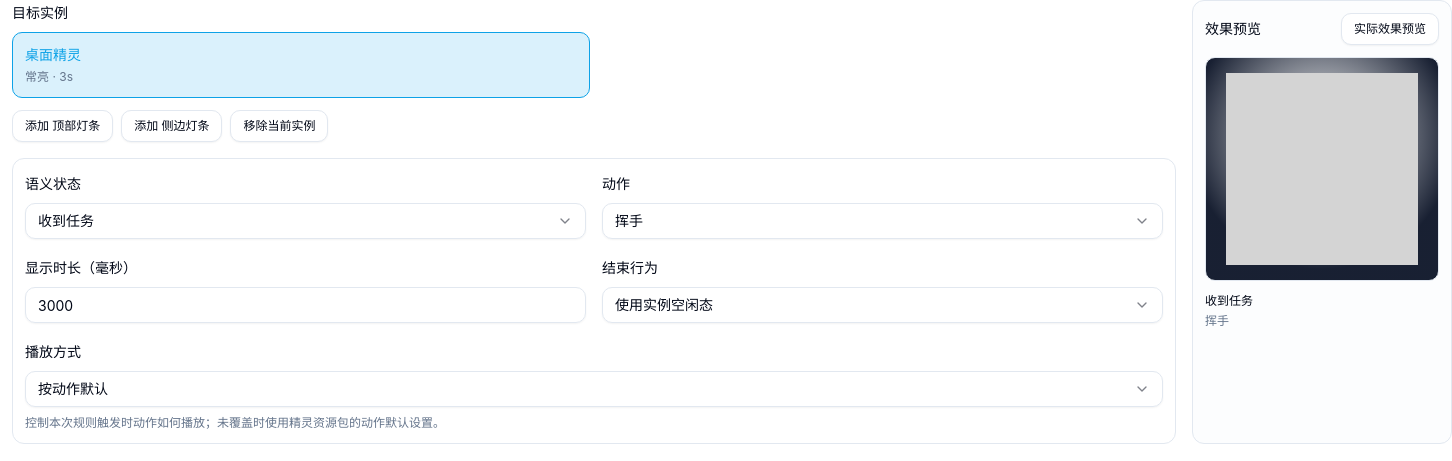
Test case: DesktopNoticeOutputFields › only shows mascot states provided by selected local custom pack
Step 1. Click the dropdown named "语义状态" → (66, 220), box [25,203,586,239]
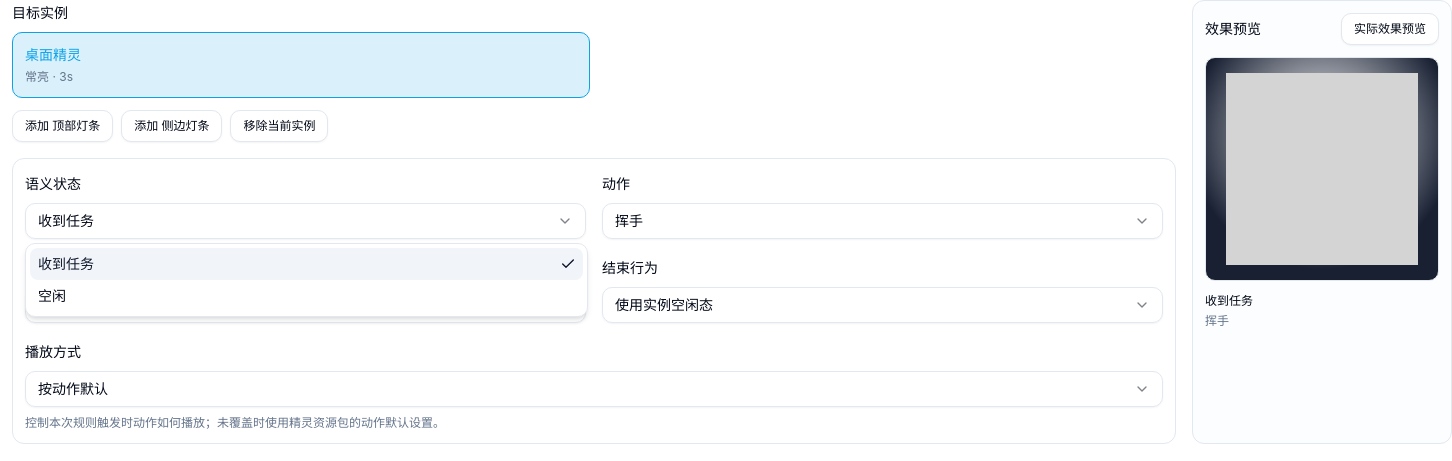
Check: the 2nd text "收到任务" is shown, box [38,254,94,274]
Check: the text "空闲" is shown, box [38,286,66,306]
